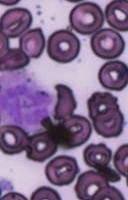N: (0, 69, 57, 131)
